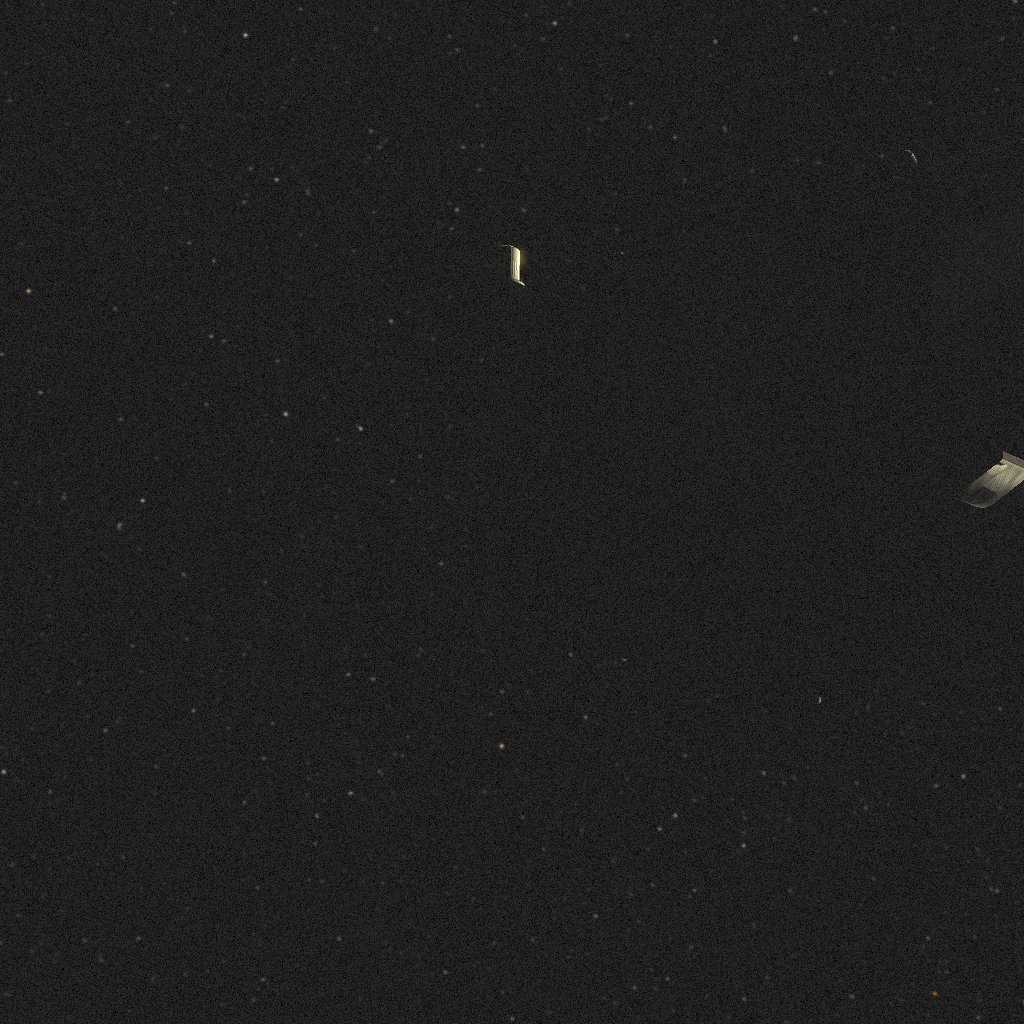proba_3_csc: (462, 139, 1024, 707)
